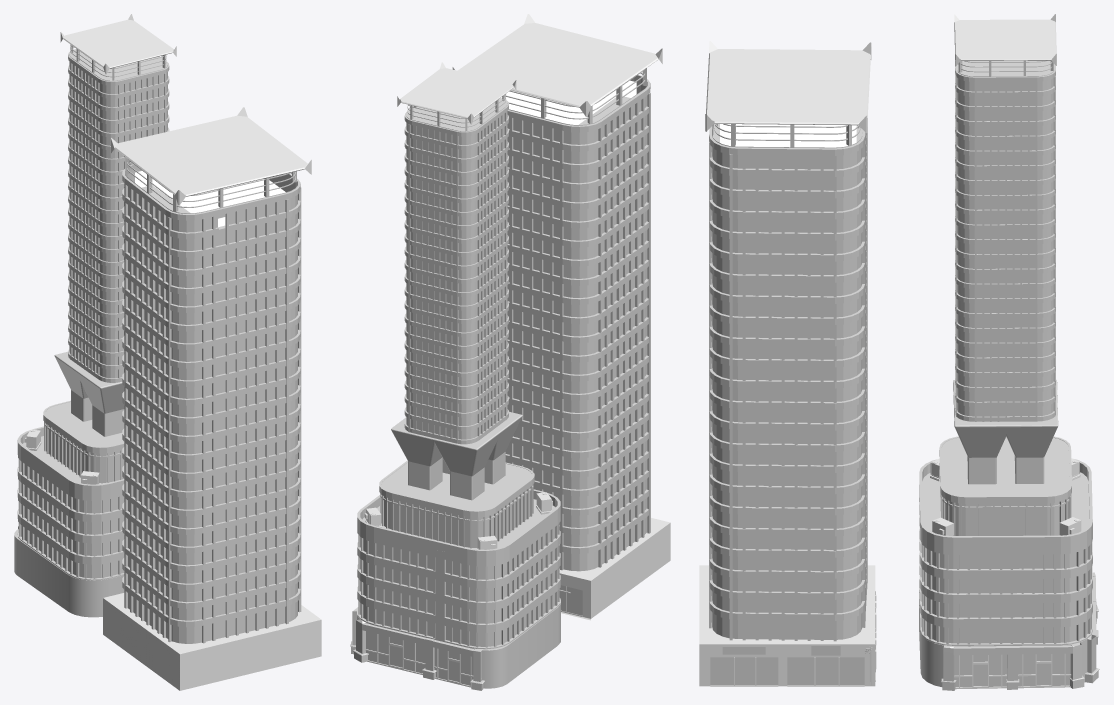
The model's file is Building (11).glb.
3 views of the same model, side by side, from view 1: azimuth 30°, elevation 25°; view 2: azimuth 150°, elevation 25°; view 3: azimuth 270°, elevation 25° (orthographic). The views are drawn at different scales.
Parts seen in each view (by area): view 1: Cube.087, Cube.103, Cube.091, Cube.102, Cube.023, Cube.449, Plane.025, Cube.024, Cube.026, Cube.010, Cube.011, Cube.461 (+16 smaller); view 2: Cube.087, Cube.103, Cube.023, Cube.024, Cube.091, Plane.025, Cube.090, Cube.010, Cube.011, Cube.028, Cube.008, Cube.014 (+19 smaller); view 3: Cube.087, Cube.103, Cube.023, Cube.024, Cube.092, Plane.025, Cube.010, Cube.011, Cube.014, Cube.025, Cube.449, Cube.008 (+19 smaller).
Part boxes in pixels (<box>): Cube.087: <box>125,164,297,643</box>; Cube.103: <box>122,206,300,627</box>; Cube.091: <box>124,183,171,642</box>; Cube.102: <box>225,199,288,637</box>; Cube.023: <box>69,49,167,378</box>; Cube.449: <box>103,593,321,690</box>; Plane.025: <box>111,107,311,205</box>; Cube.024: <box>68,49,169,382</box>; Cube.026: <box>70,63,99,375</box>; Cube.010: <box>21,436,124,578</box>; Cube.011: <box>17,435,124,564</box>; Cube.461: <box>14,526,124,617</box>; Cube.087: <box>505,75,647,571</box>; Cube.103: <box>505,125,648,553</box>; Cube.023: <box>406,98,507,439</box>; Cube.024: <box>404,98,508,444</box>; Cube.091: <box>598,93,650,567</box>; Plane.025: <box>452,14,662,116</box>; Cube.090: <box>509,117,563,570</box>; Cube.010: <box>360,499,555,646</box>; Cube.011: <box>357,498,560,632</box>; Cube.028: <box>408,124,458,439</box>; Cube.008: <box>391,411,522,500</box>; Cube.014: <box>381,462,532,547</box>; Cube.087: <box>712,124,862,639</box>; Cube.103: <box>709,140,867,620</box>; Cube.023: <box>957,60,1054,416</box>; Cube.024: <box>955,58,1055,421</box>; Cube.092: <box>729,154,836,641</box>; Plane.025: <box>705,41,871,133</box>; Cube.010: <box>922,472,1089,643</box>; Cube.011: <box>919,471,1092,627</box>; Cube.014: <box>941,437,1069,535</box>; Cube.025: <box>975,81,1037,421</box>; Cube.449: <box>699,565,875,686</box>; Cube.008: <box>953,379,1058,484</box>.
Size of the model in its own units: 13.75 by 47.1 by 27.56.
Materials: 42 (3 with a texture image).
